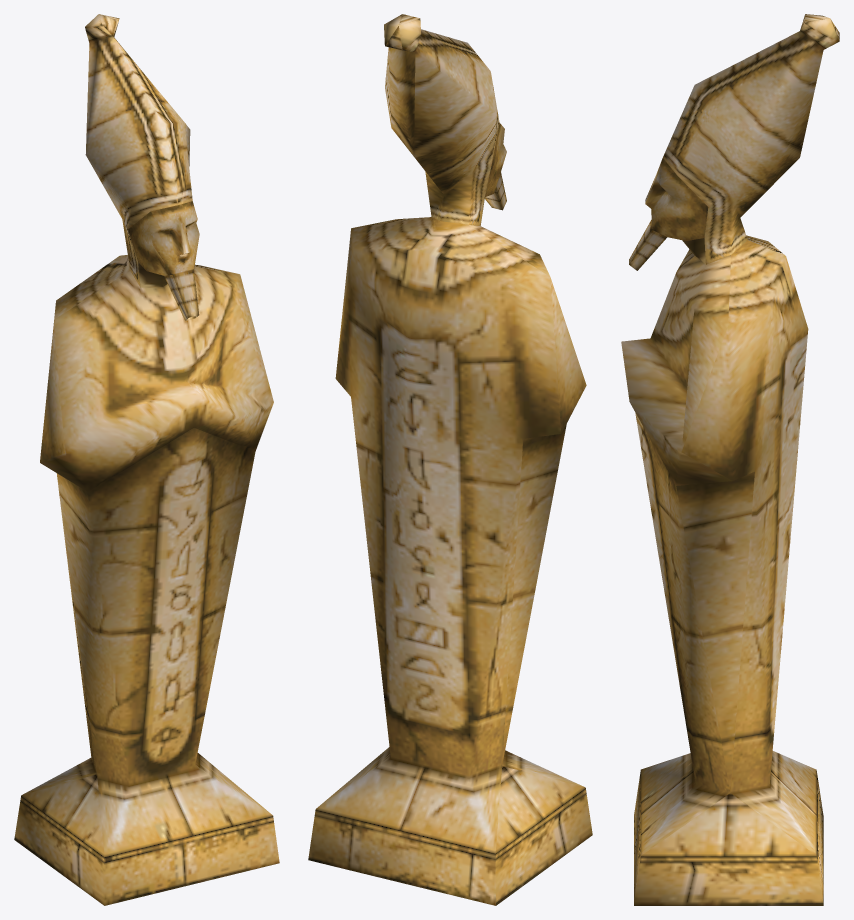
File: estatua_farao_base.glb
The picture shows the model from 3 angles, left to right: view 1: azimuth 30°, elevation 25°; view 2: azimuth 150°, elevation 25°; view 3: azimuth 270°, elevation 25°; orthographic projection. The views are drawn at different scales.
Visible parts, largest first — view 1: MeshRoot; view 2: MeshRoot; view 3: MeshRoot.
Part boxes in pixels (<box>): MeshRoot: <box>14,14,279,905</box>; MeshRoot: <box>308,14,592,905</box>; MeshRoot: <box>621,14,839,905</box>.
Bounding box in the file's own units: 2.28 × 8.31 × 1.95.
1 material, 1 textured.
